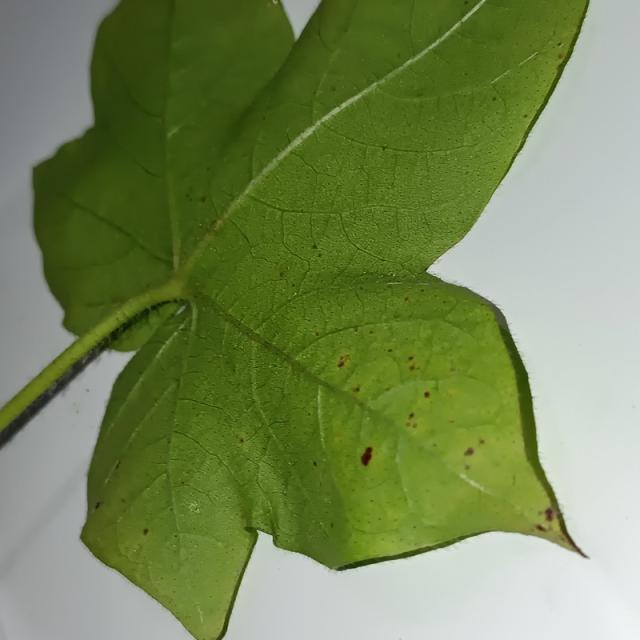Bacterial_Blight: (348, 442, 384, 475), (534, 507, 565, 541), (463, 437, 486, 463), (330, 347, 347, 372), (405, 413, 418, 430), (544, 507, 554, 521), (227, 361, 236, 374), (463, 447, 474, 456), (536, 524, 546, 532), (557, 62, 564, 71), (94, 501, 101, 510), (115, 460, 121, 470), (416, 91, 424, 98), (353, 386, 360, 392), (424, 391, 430, 398), (143, 528, 149, 535), (558, 52, 564, 59), (200, 196, 206, 203), (409, 365, 415, 371), (408, 413, 414, 419), (450, 366, 456, 372), (311, 243, 317, 249), (381, 145, 387, 151), (330, 86, 336, 92), (279, 271, 284, 278), (404, 297, 410, 302), (239, 437, 244, 443), (407, 356, 413, 361), (479, 439, 485, 444), (387, 348, 393, 353), (464, 465, 470, 470), (491, 96, 497, 101), (315, 332, 320, 337), (369, 329, 374, 334), (405, 422, 410, 427), (523, 114, 528, 119), (557, 42, 562, 47), (464, 1, 469, 6), (313, 461, 317, 467), (307, 411, 311, 417), (291, 283, 296, 287), (330, 522, 334, 527)
Cotton: (0, 0, 588, 639)
